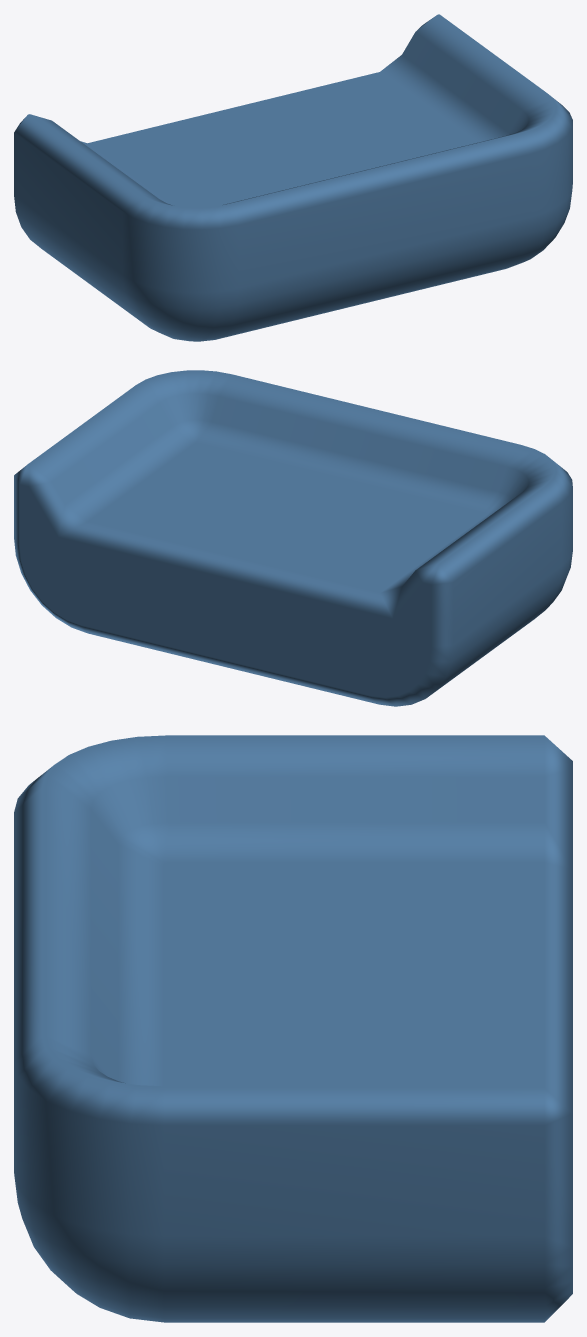
File: Soap Holder.fbx
3 renders of one model, top to bottom at view 1: azimuth 30°, elevation 25°; view 2: azimuth 150°, elevation 25°; view 3: azimuth 270°, elevation 25°, orthographic. The views are drawn at different scales.
Visible parts, largest first — view 1: Soap Holder; view 2: Soap Holder; view 3: Soap Holder.
Boxes of the visible parts, x1,y1,x2,y2 form: Soap Holder: [14, 14, 572, 341]; Soap Holder: [14, 370, 572, 706]; Soap Holder: [14, 735, 572, 1322].
Size of the model in its own units: 37.88 by 12.75 by 23.77.
